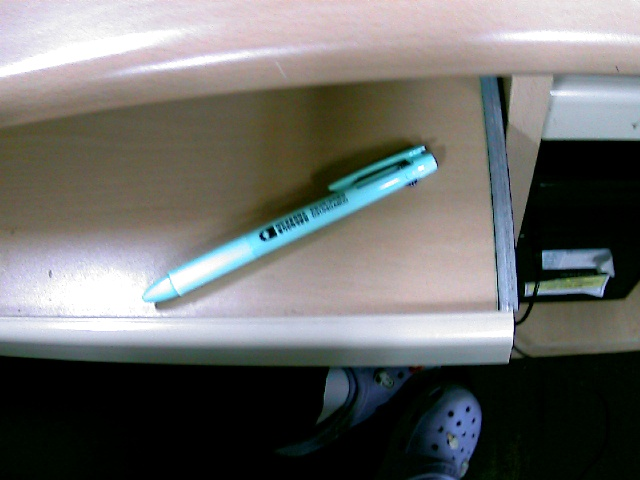pen: (113, 118, 461, 299)
